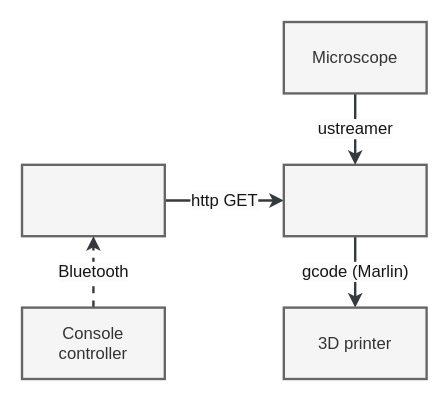
Some shapes in this 447 by 400 pixel diagram are drawn without their labels. The centre of each missing label's shape, as x and y in pixels:
"PC" goes at (x=92, y=200).
"Raspberry Pi" goes at (x=354, y=200).
